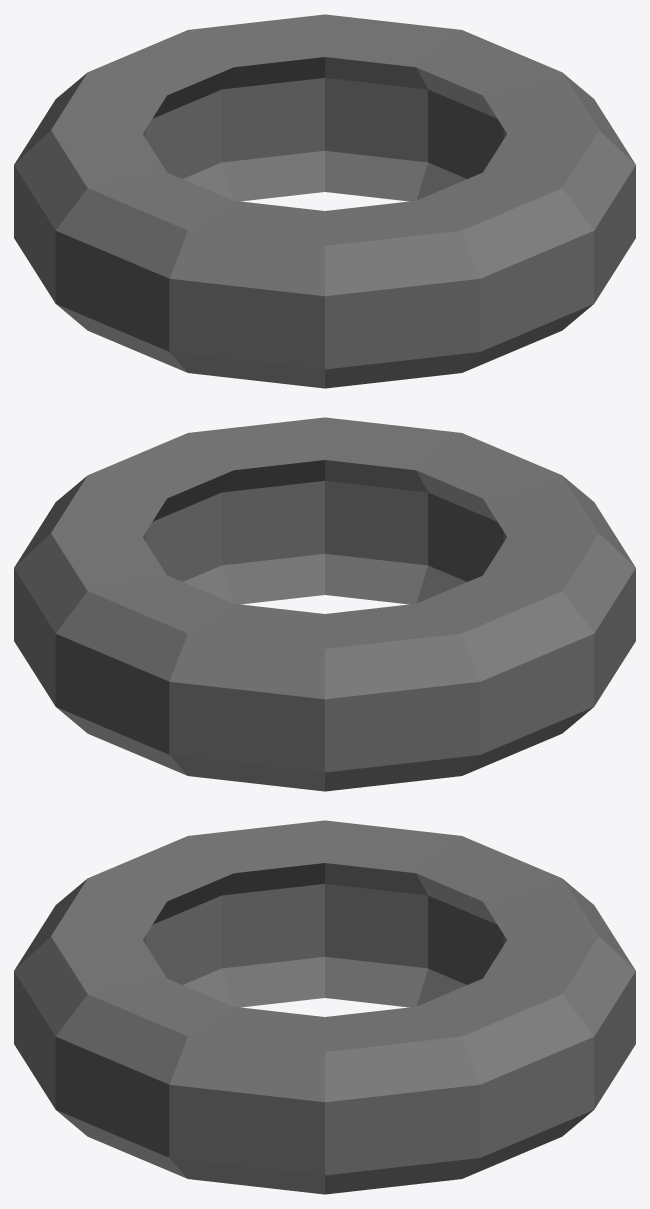
File: band.fbx
3 views of the same model, one above another, from view 1: azimuth 30°, elevation 25°; view 2: azimuth 150°, elevation 25°; view 3: azimuth 270°, elevation 25° (orthographic).
Visible parts, largest first — view 1: Torus; view 2: Torus; view 3: Torus.
Boxes of the visible parts, x1,y1,x2,y2 form: Torus: [14, 14, 635, 388]; Torus: [14, 417, 635, 791]; Torus: [14, 820, 635, 1194].
Bounding box in the file's own units: 416 × 105 × 416.
